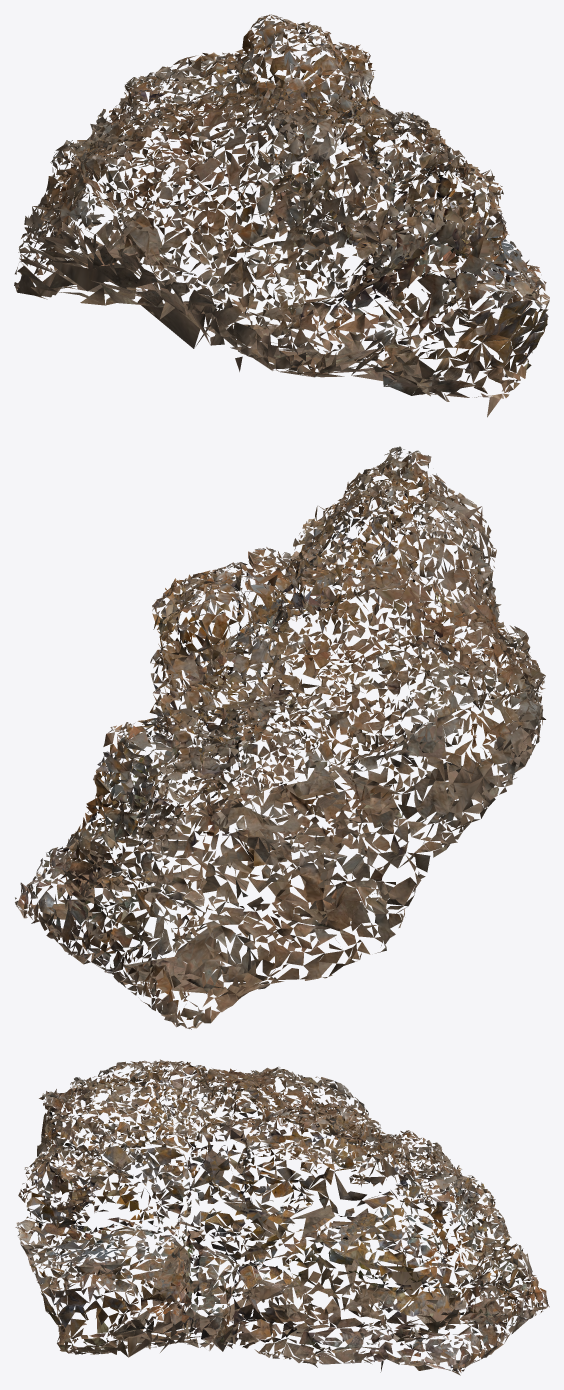
File: ph_boulder_01.glb
3 renders of one model, top to bottom at view 1: azimuth 30°, elevation 25°; view 2: azimuth 150°, elevation 25°; view 3: azimuth 270°, elevation 25°, orthographic. The views are drawn at different scales.
Visible parts, largest first — view 1: Hero; view 2: Hero; view 3: Hero.
Part boxes in pixels (left/top/right/bottom): Hero: left=14, top=14, right=549, bottom=417; Hero: left=15, top=446, right=545, bottom=1029; Hero: left=15, top=1059, right=549, bottom=1375.
Bounding box in the file's own units: 0.6967 × 0.5517 × 1.
1 material, 1 textured.
